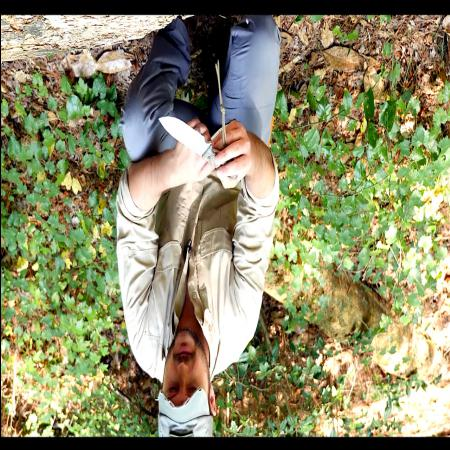long weapon: (154, 111, 244, 190)
